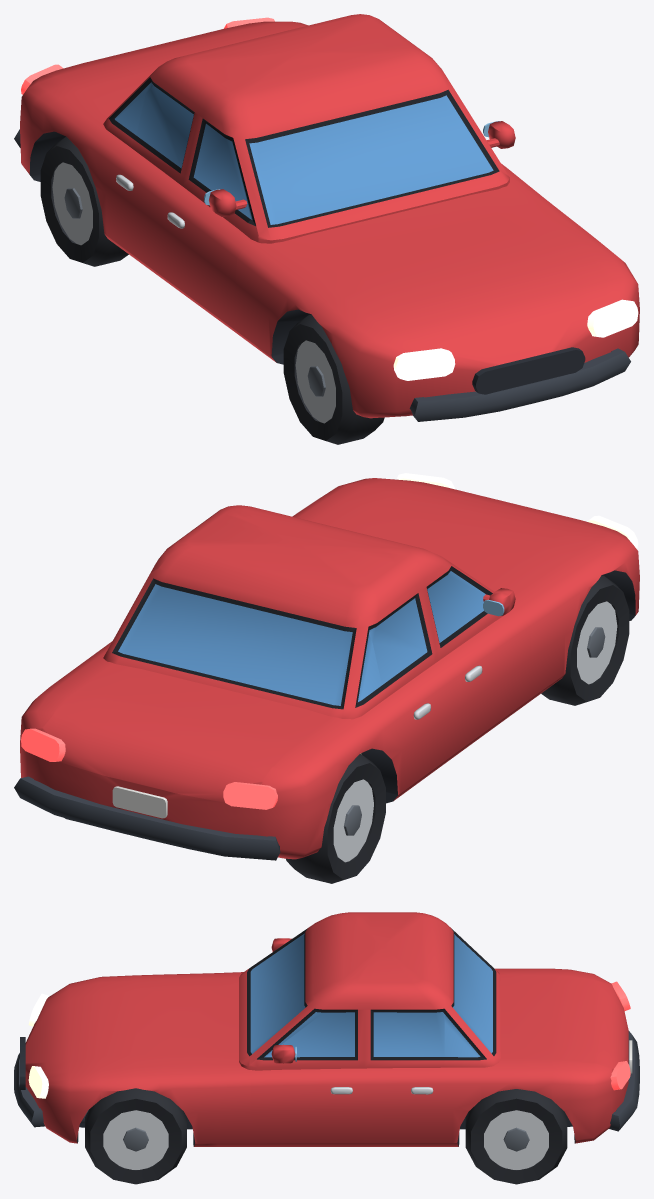
Rendered from sedan_vermelho.glb.
The picture shows the model from 3 angles, top to bottom: view 1: azimuth 30°, elevation 25°; view 2: azimuth 150°, elevation 25°; view 3: azimuth 270°, elevation 25°; orthographic projection. The views are drawn at different scales.
Parts seen in each view (by area): view 1: sedan_vermelho, porta_dianteira_esq, porta_traseira_esq, roda_dianteira_esq, roda_traseira_esq, porta_malas; view 2: sedan_vermelho, porta_malas, porta_dianteira_esq, porta_traseira_esq, roda_traseira_esq, roda_dianteira_esq; view 3: sedan_vermelho, porta_dianteira_dir, porta_traseira_dir, porta_malas, roda_traseira_dir, roda_dianteira_dir.
Boxes of the visible parts, x1,y1,x2,y2 form: sedan_vermelho: (14, 14, 639, 421); porta_dianteira_esq: (162, 115, 258, 330); porta_traseira_esq: (111, 77, 198, 277); roda_dianteira_esq: (283, 314, 384, 444); roda_traseira_esq: (40, 136, 128, 266); porta_malas: (44, 22, 287, 110); sedan_vermelho: (14, 473, 639, 860); porta_malas: (42, 668, 326, 802); porta_dianteira_esq: (422, 566, 531, 751); porta_traseira_esq: (368, 590, 458, 789); roda_traseira_esq: (286, 754, 385, 883); roda_dianteira_esq: (541, 575, 629, 705); sedan_vermelho: (14, 912, 639, 1146); porta_dianteira_dir: (250, 1008, 364, 1143); porta_traseira_dir: (364, 1008, 444, 1143); porta_malas: (509, 975, 628, 1070); roda_traseira_dir: (465, 1089, 567, 1184); roda_dianteira_dir: (85, 1088, 186, 1184).
Size of the model in its own units: 1.94 by 1.47 by 4.44.
Materials: 4 (1 with a texture image).
